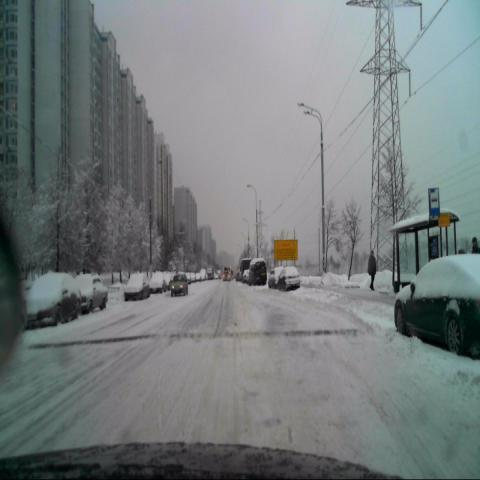5_16: (428, 187, 440, 217)
